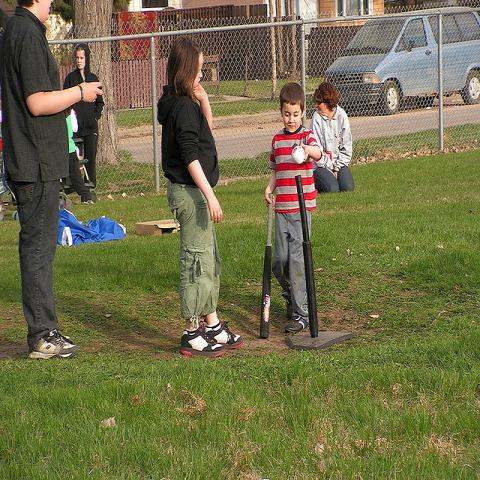car: (323, 12, 479, 115)
